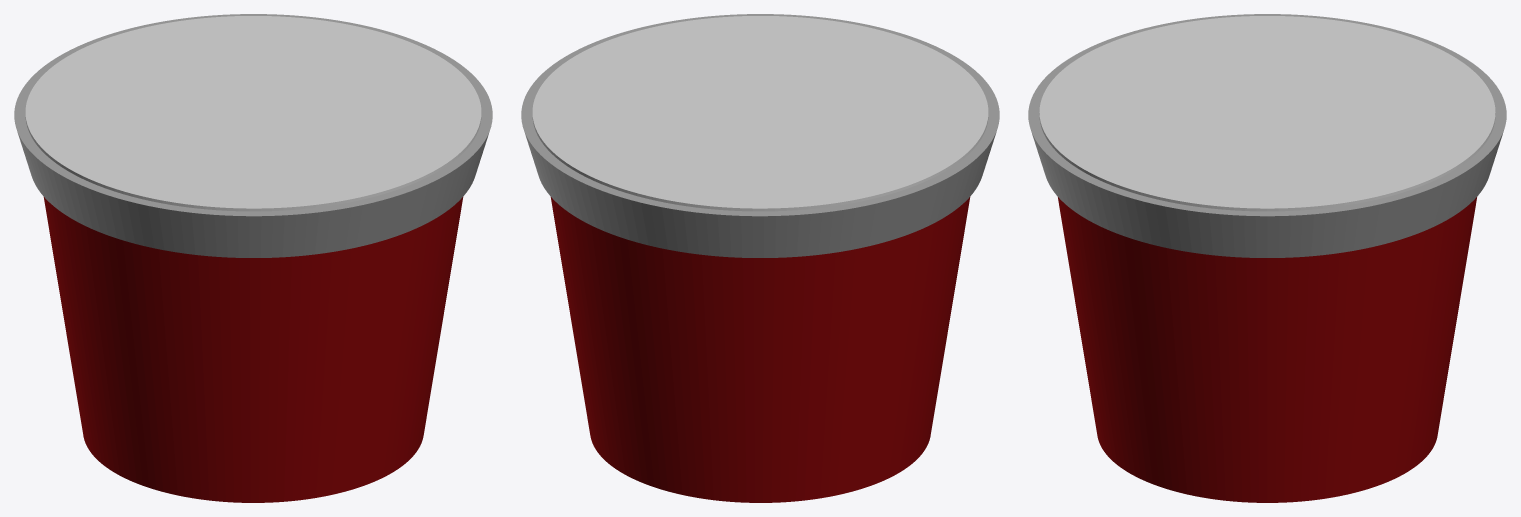
File: DRUM.fbx
The picture shows the model from 3 angles, left to right: view 1: azimuth 30°, elevation 25°; view 2: azimuth 150°, elevation 25°; view 3: azimuth 270°, elevation 25°; orthographic projection.
Visible parts, largest first — view 1: Plane; view 2: Plane; view 3: Plane.
Boxes of the visible parts, <box> form: Plane: <box>14,14,492,502</box>; Plane: <box>521,14,999,502</box>; Plane: <box>1028,14,1506,502</box>.
Size of the model in its own units: 281 by 206 by 281.
